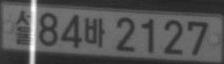1: (139, 18, 159, 53)
2: (115, 16, 136, 53), (162, 18, 183, 55)
4: (59, 13, 82, 48)
7: (186, 20, 208, 55)
8: (37, 11, 58, 47)
바: (84, 16, 106, 48)
서울_V: (14, 8, 37, 46)
